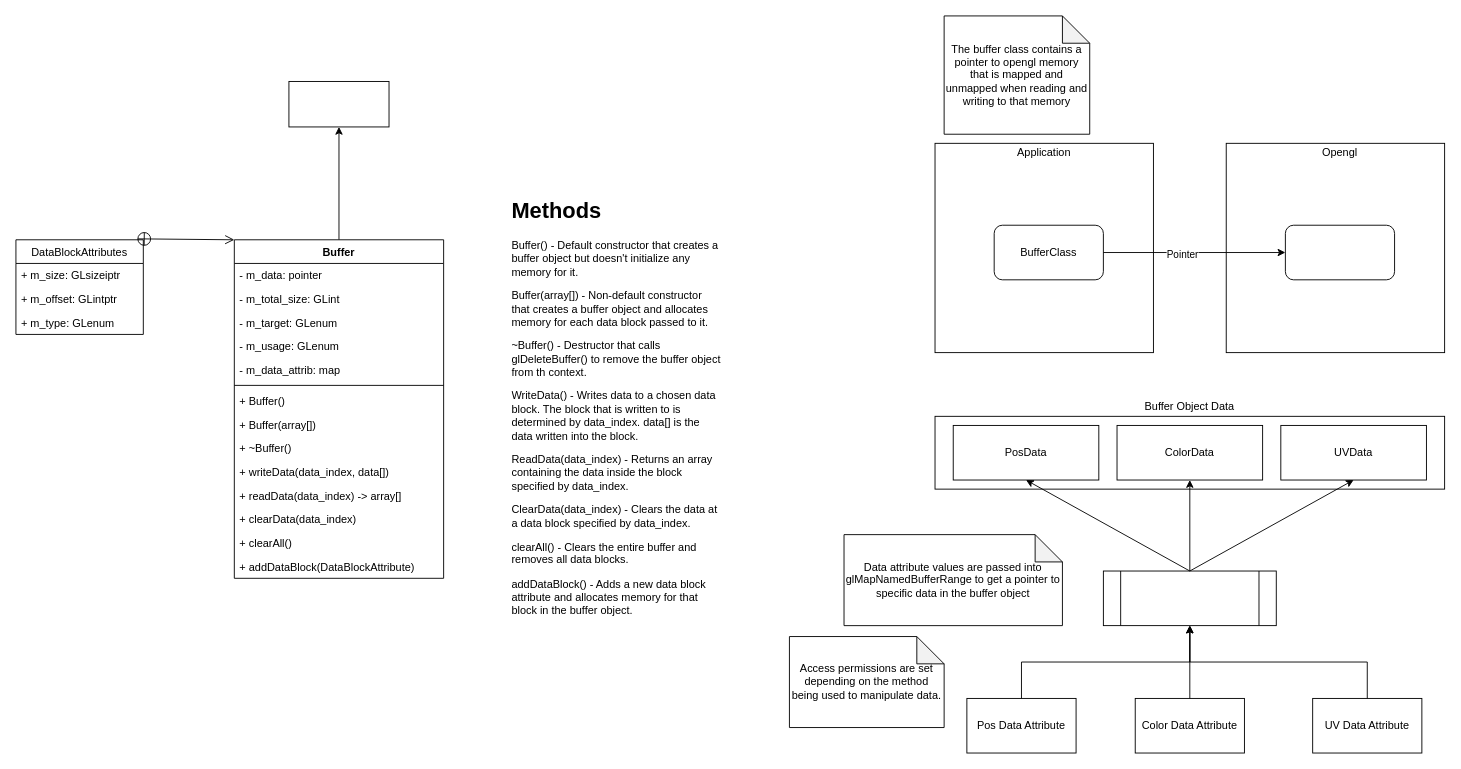
The diagram is 1461 pixels wide and 769 high, and some of its shapes have lost their labels. Each missing label, with the centre of its shape:
"Buffer Object" goes at point (1339, 252).
"glMapNamedBufferRange" goes at point (1189, 598).
"OpenglObject" goes at point (338, 104).
